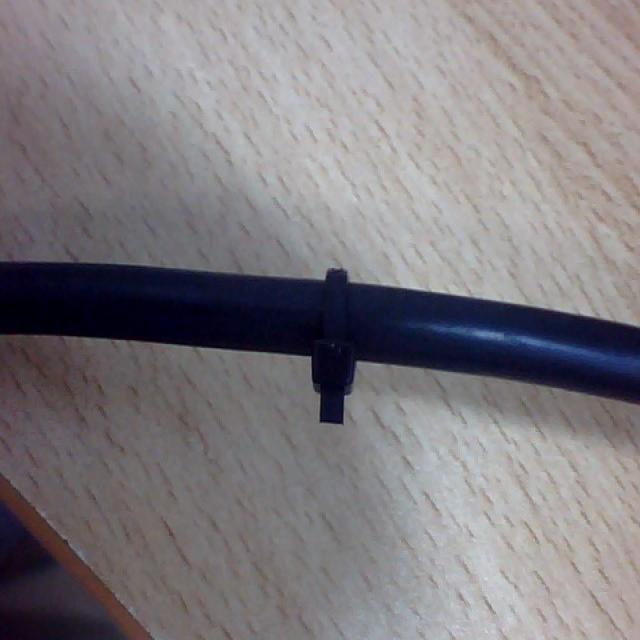cable-tie: (311, 268, 356, 426)
